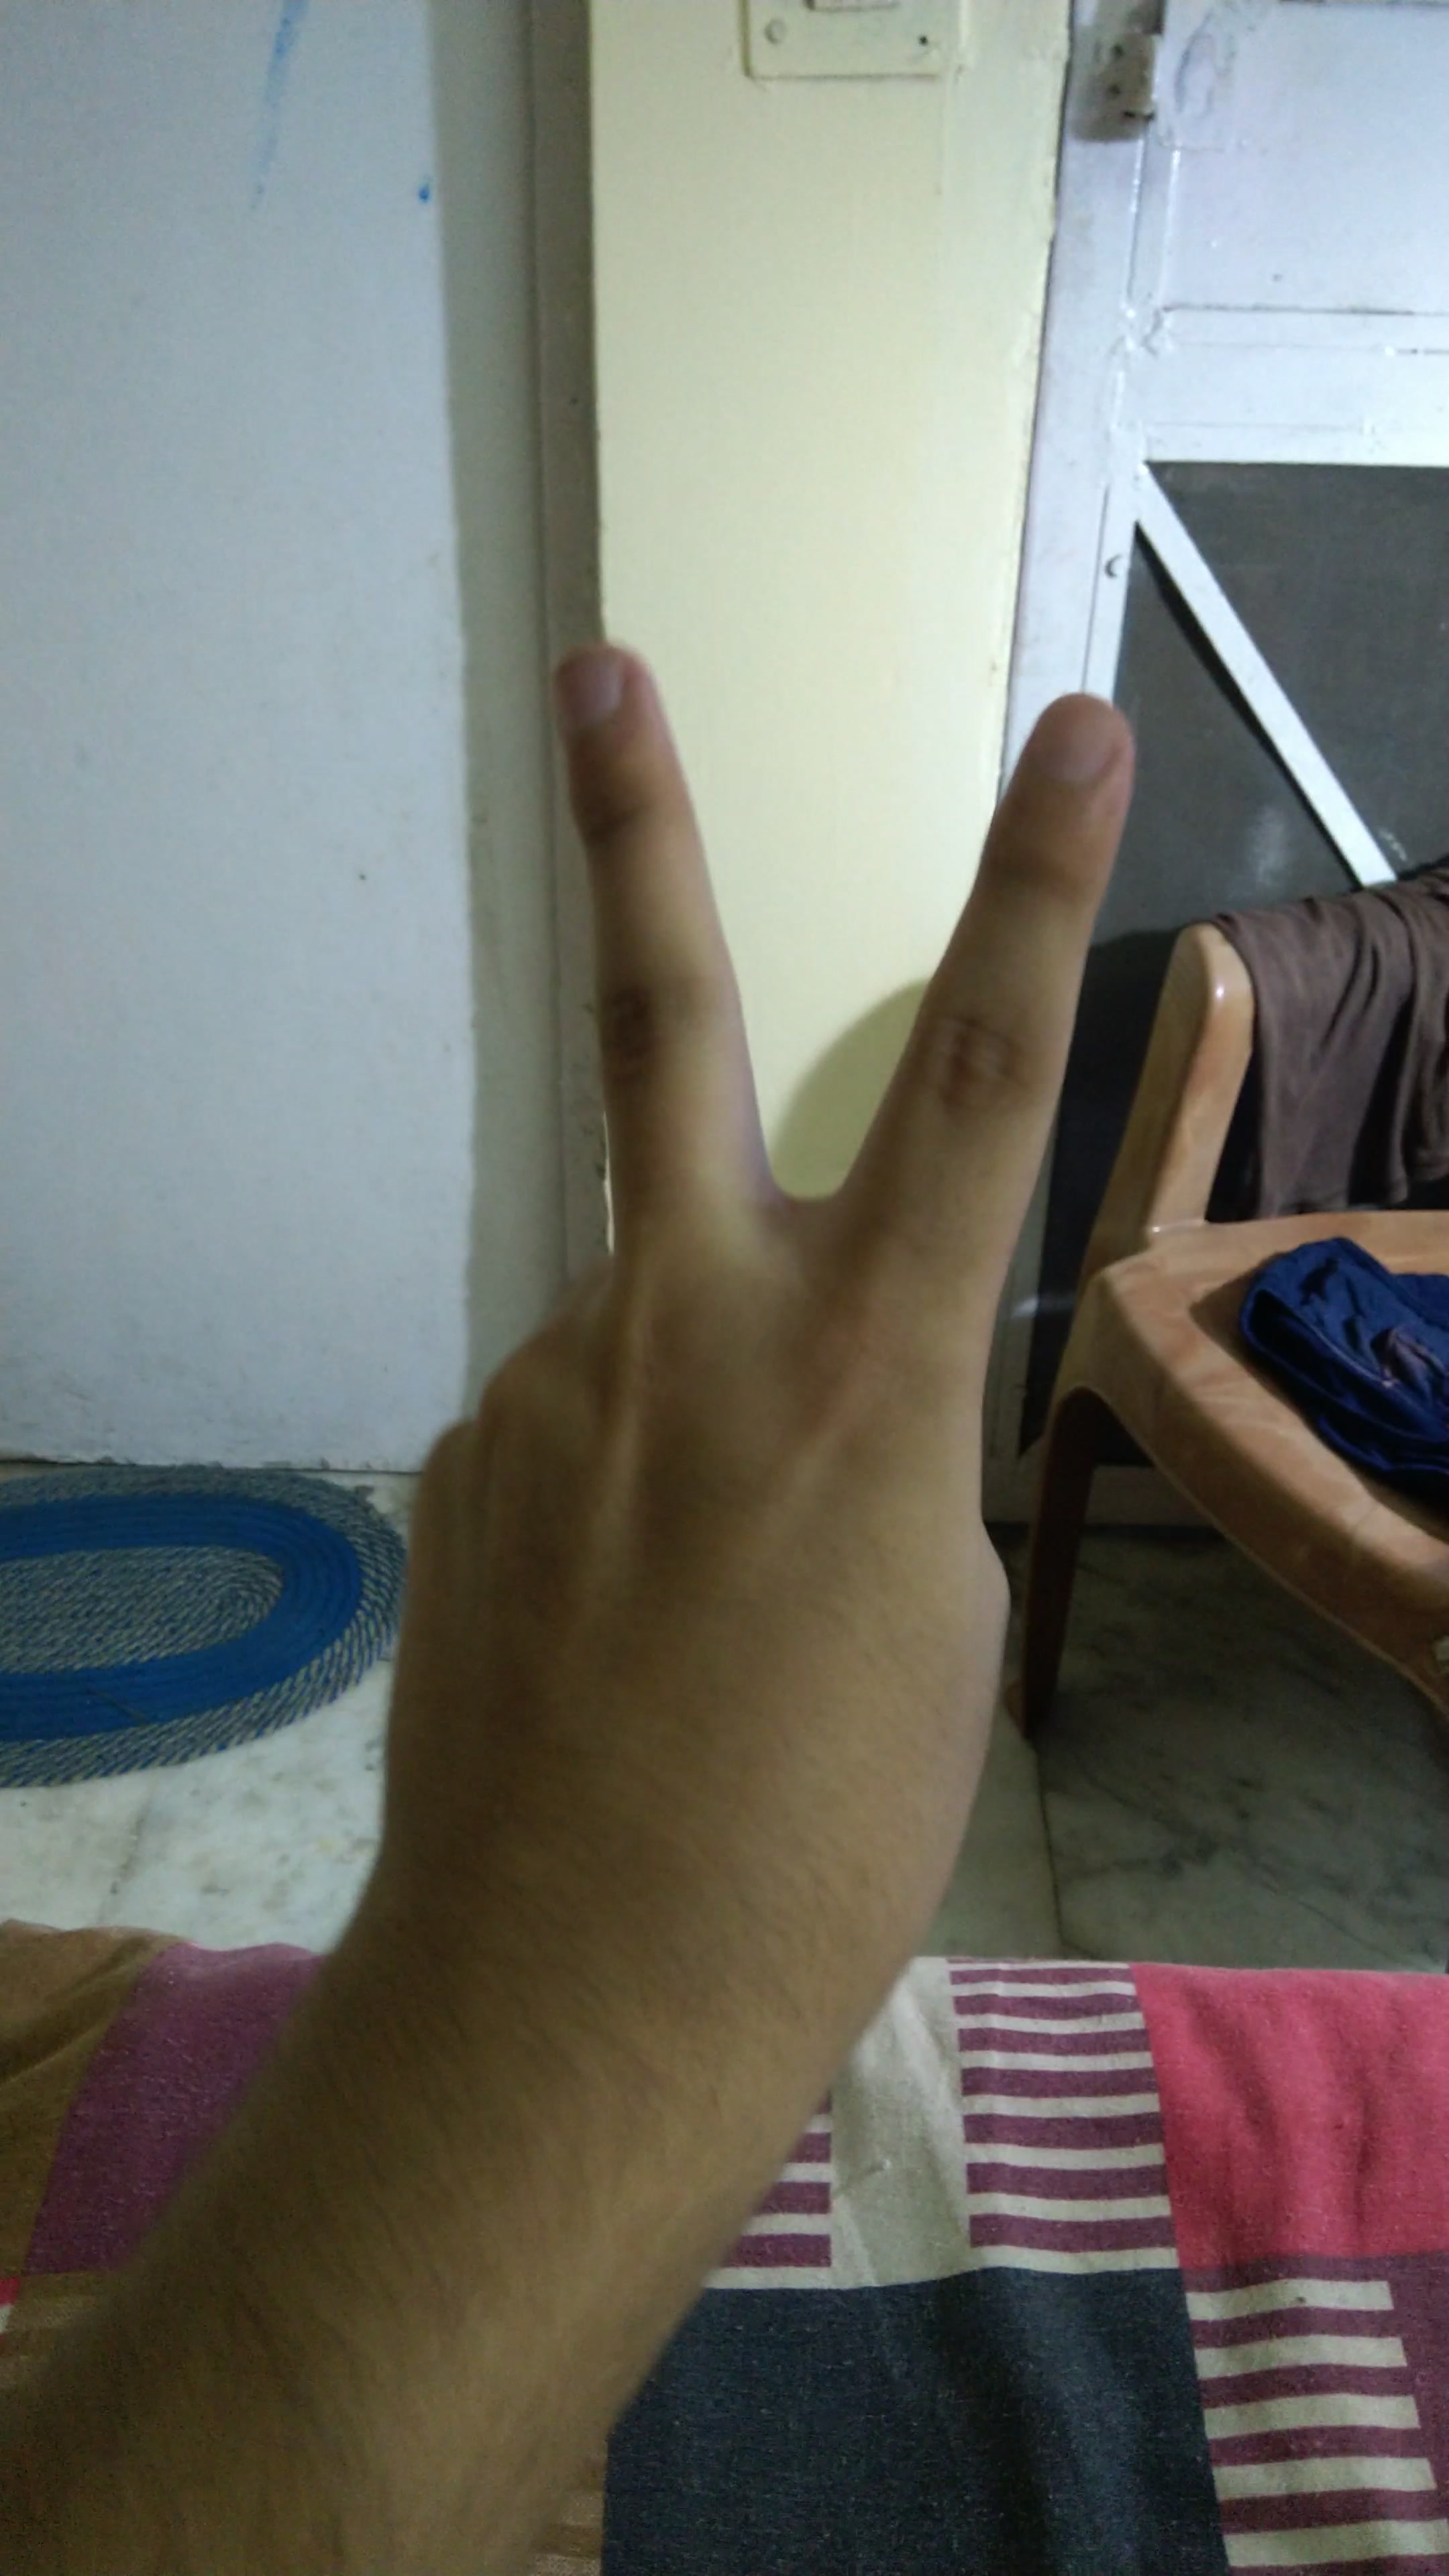hand: (258, 556, 1247, 2026)
